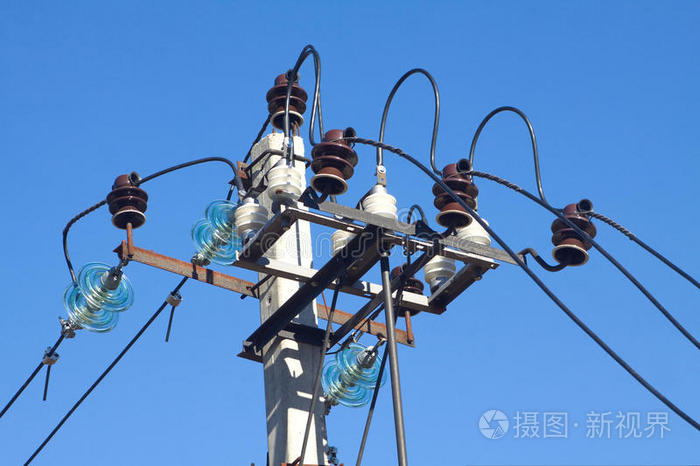insulator: (63, 261, 132, 332), (320, 346, 389, 409), (188, 201, 244, 266)
